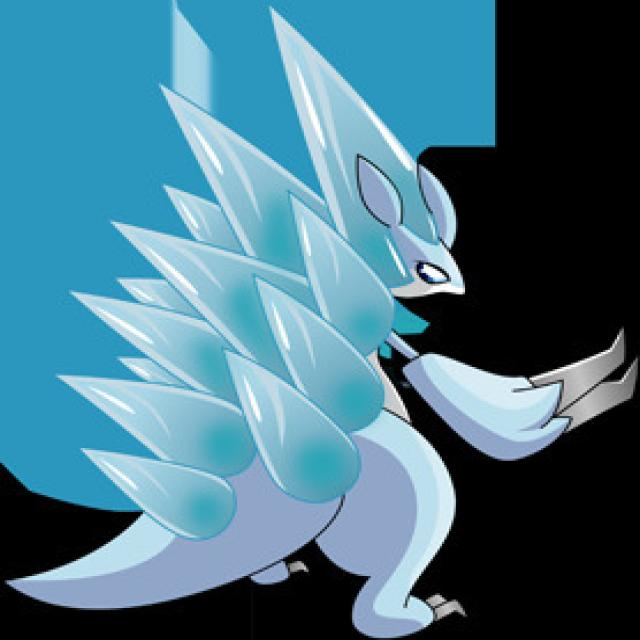Alolan: (137, 118, 533, 598)
